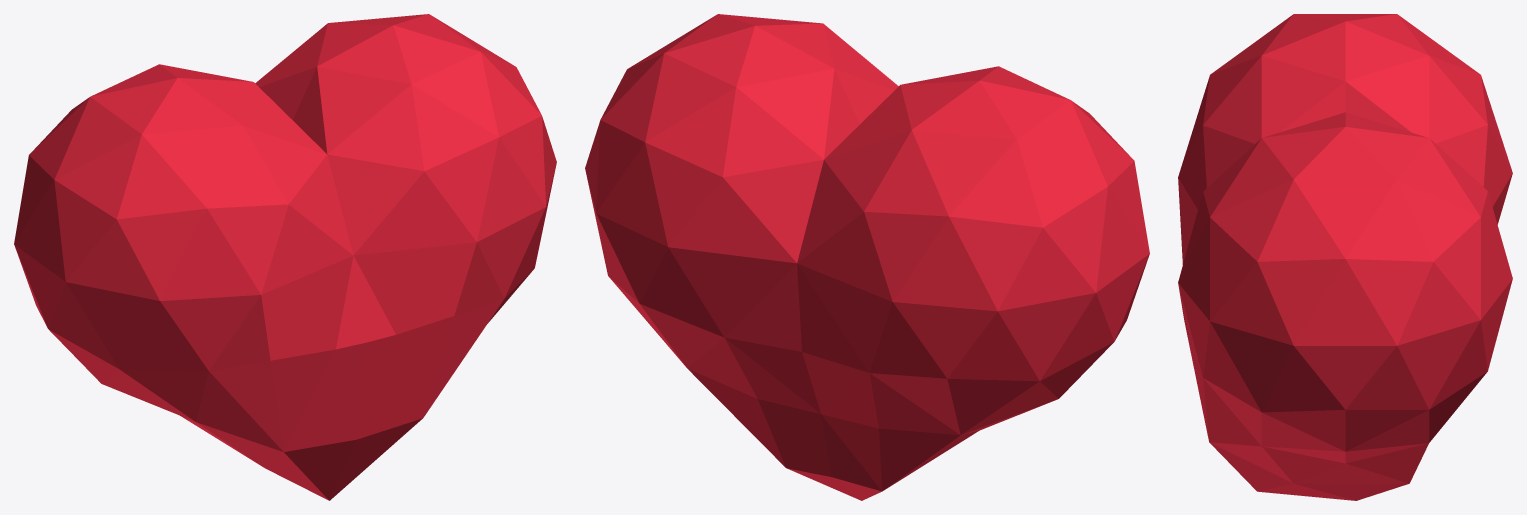
Rendered from Heart-optimized.glb.
The picture shows the model from 3 angles, left to right: view 1: azimuth 30°, elevation 25°; view 2: azimuth 150°, elevation 25°; view 3: azimuth 270°, elevation 25°; orthographic projection. The views are drawn at different scales.
Parts seen in each view (by area): view 1: Heart_Full; view 2: Heart_Full; view 3: Heart_Full.
Boxes of the visible parts, x1=… form: Heart_Full: x1=14, y1=14, x2=556, y2=500; Heart_Full: x1=585, y1=14, x2=1149, y2=500; Heart_Full: x1=1178, y1=14, x2=1512, y2=500.
Bounding box in the file's own units: 0.9714 × 0.8057 × 0.5728.
